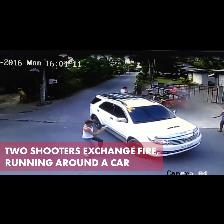person: (83, 120, 104, 148), (213, 107, 223, 131), (19, 88, 27, 102), (121, 87, 127, 92)
